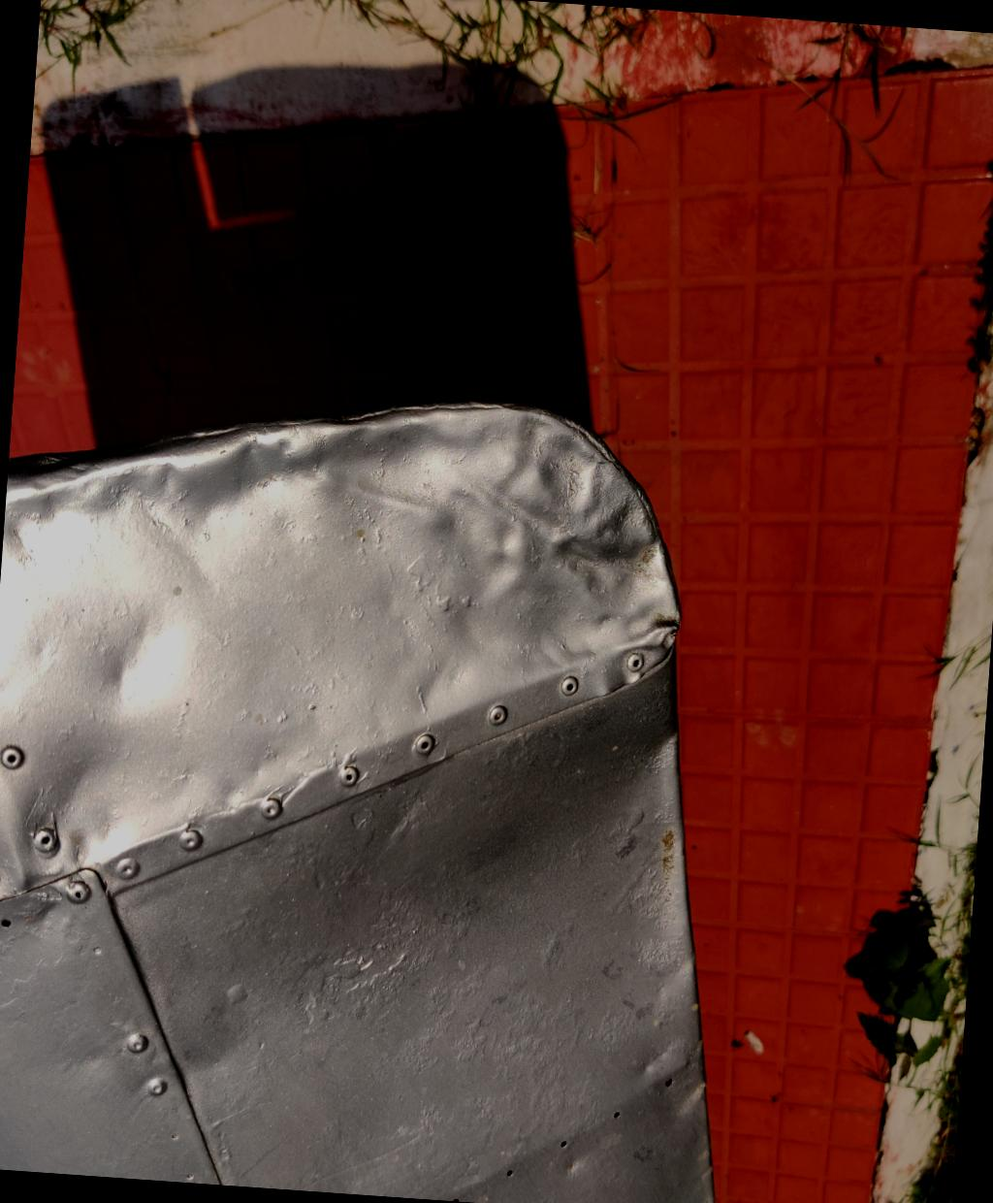dent: (0, 367, 447, 619), (453, 394, 699, 650), (0, 719, 129, 904), (85, 585, 208, 748)
